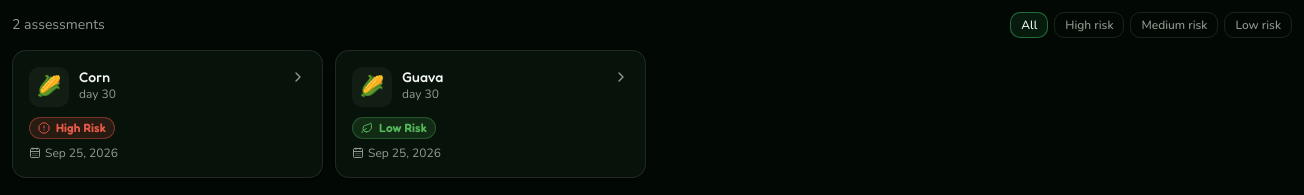
AssessmentHistoryGrid › filters by risk level
The width and height of the screenshot is (1304, 195).
Click the button "High risk" at (1089, 25), box [1054,12,1124,38]
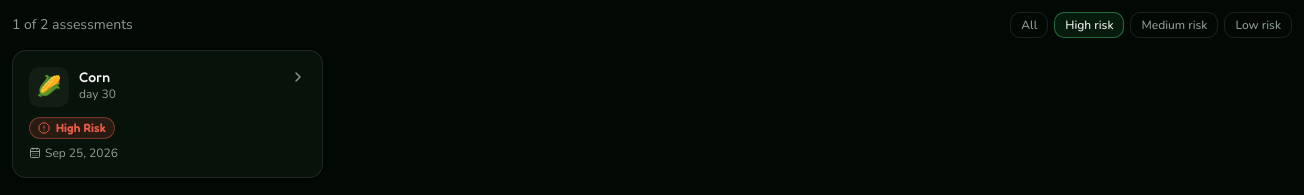
Expected: the text "Corn" is shown, [79,68,110,85]
Now the link "Guava" is gone
Now the text "1 of 2 assessments" is shown, box [12,15,133,35]
